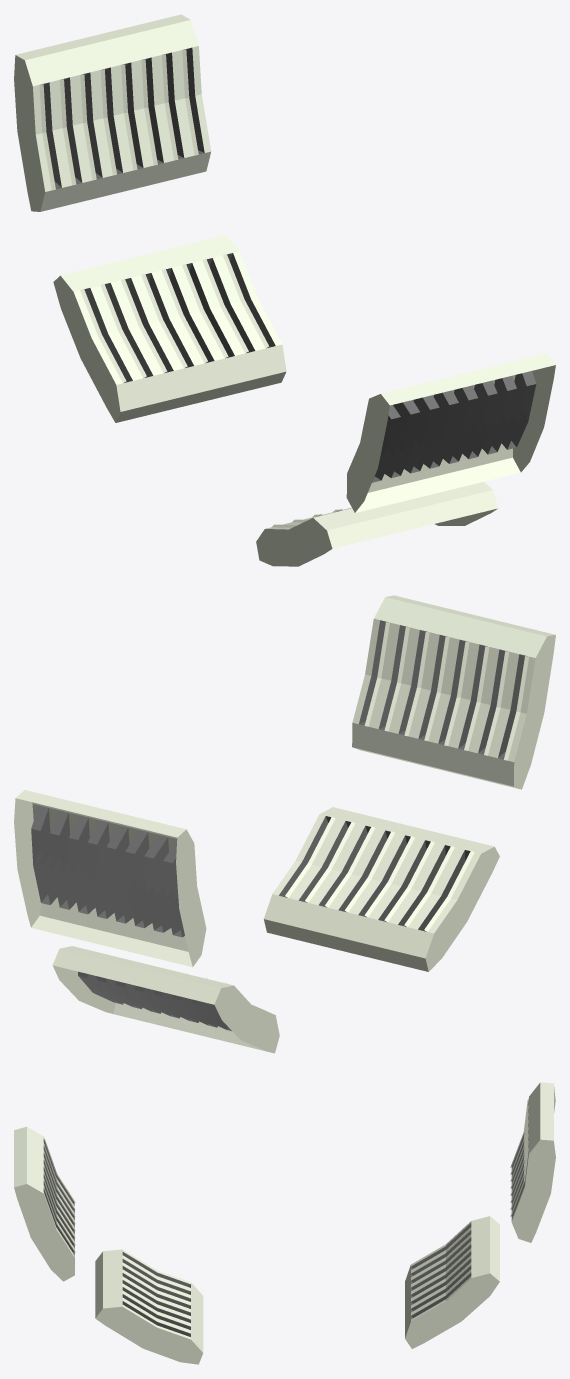
File: saunaVents.fbx
3 renders of one model, top to bottom at view 1: azimuth 30°, elevation 25°; view 2: azimuth 150°, elevation 25°; view 3: azimuth 270°, elevation 25°, orthographic. The views are drawn at different scales.
Visible parts, largest first — view 1: saunaVents; view 2: saunaVents; view 3: saunaVents.
Part boxes in pixels (bbox=[...]): saunaVents: bbox=[14, 14, 555, 566]; saunaVents: bbox=[14, 595, 555, 1053]; saunaVents: bbox=[14, 1082, 555, 1364].
Size of the model in its own units: 52.11 by 92.53 by 200.
